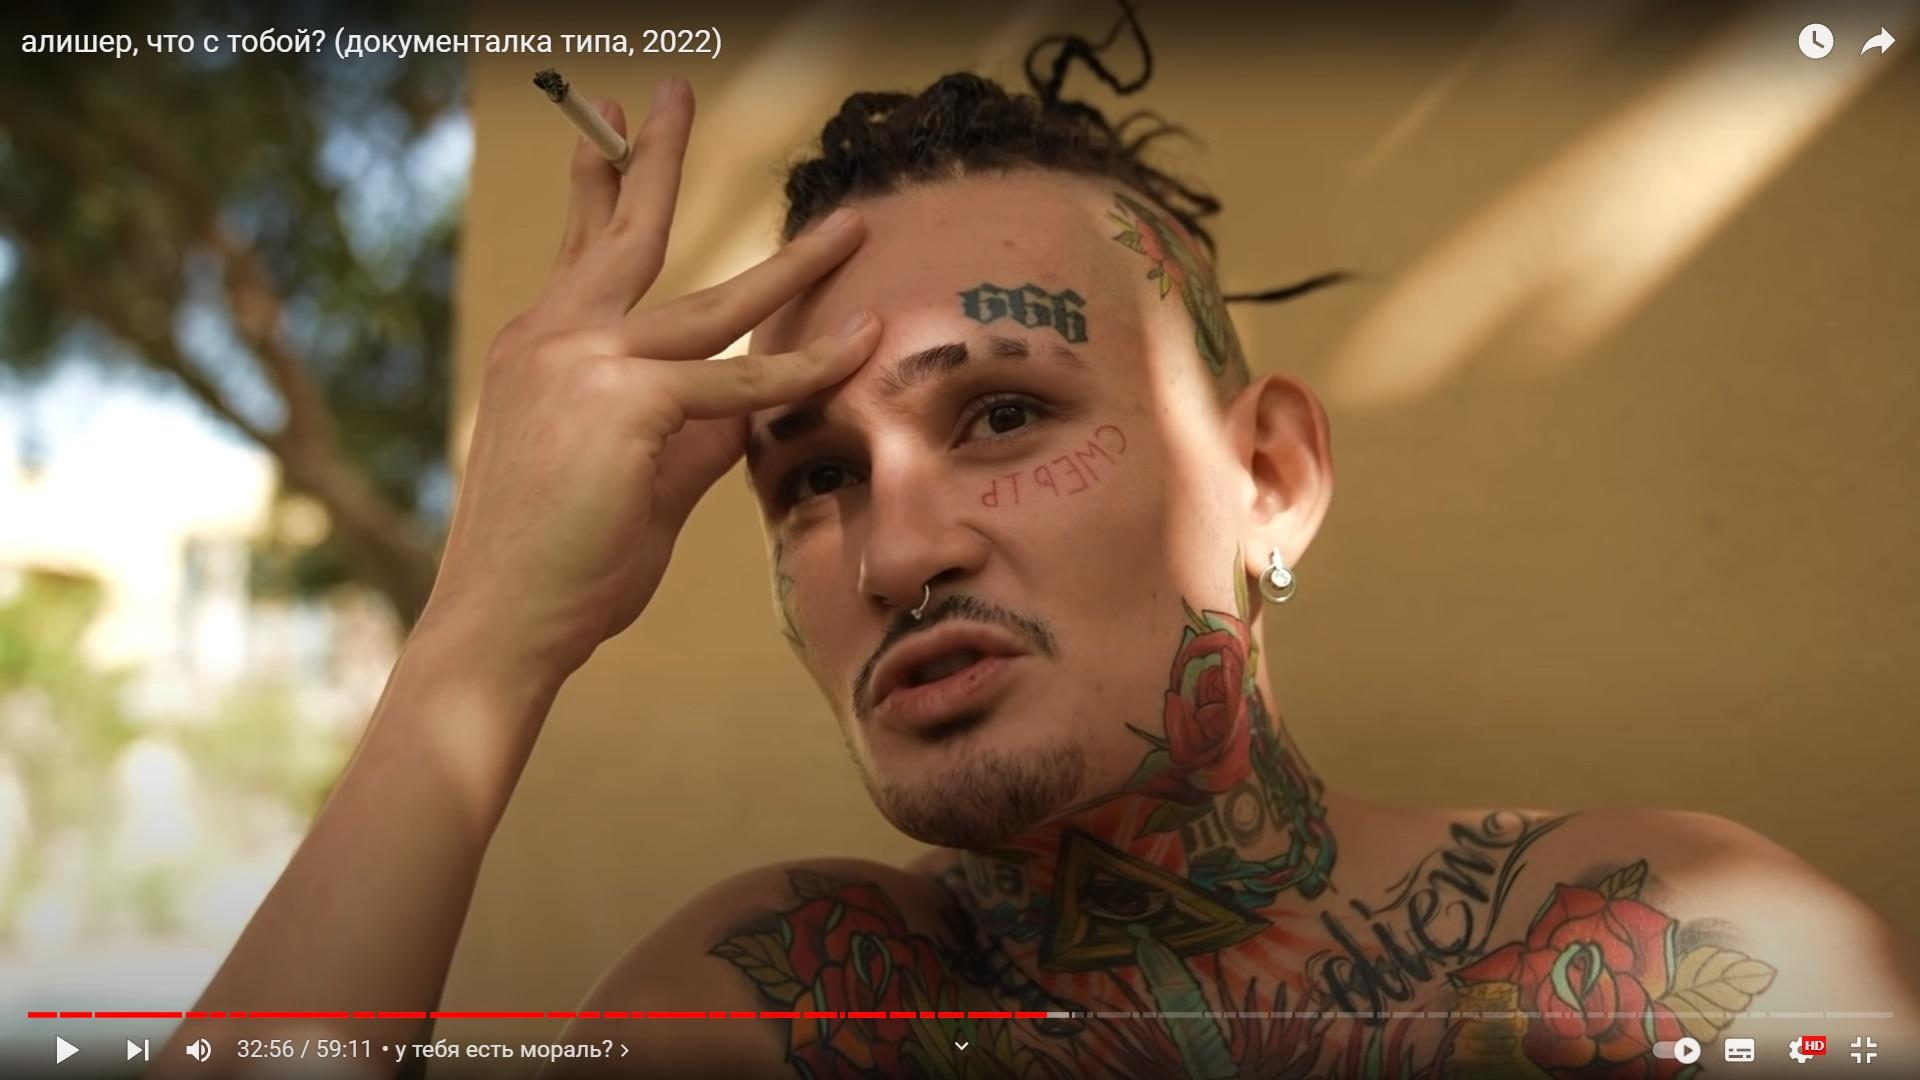cigarette: (534, 67, 633, 175)
